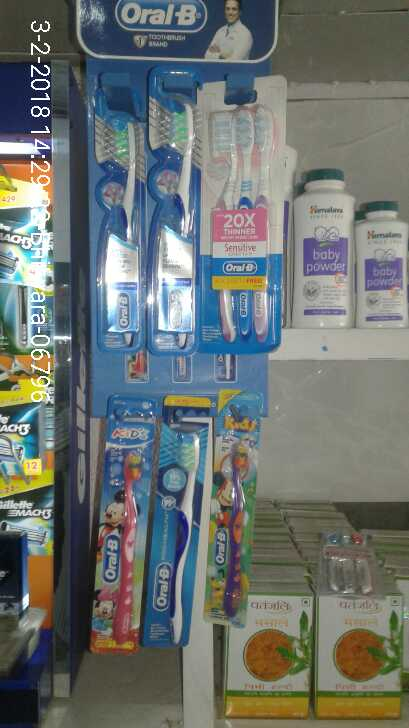oralb: (199, 85, 286, 349), (140, 70, 204, 338), (150, 404, 204, 657), (96, 399, 149, 655), (93, 82, 142, 344), (209, 397, 256, 631)
